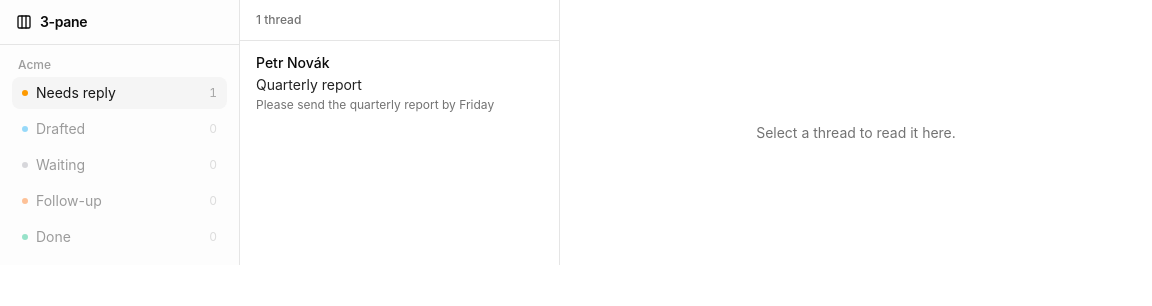
Test case: ThreePanePage (smoke) › lists states with counts, lists threads for the selected state, and reads a thread via the local body hop
Check: the button "Needs reply 1" is enabled, box [12,77,227,109]
// Click the thread → RIGHT reading pane shows the pinned 7b summary…
What coordinates should you click on to do the following:
click the text "Quarterly report"
I would click on:
 (309, 84)
Its box is [256,76,362,93].
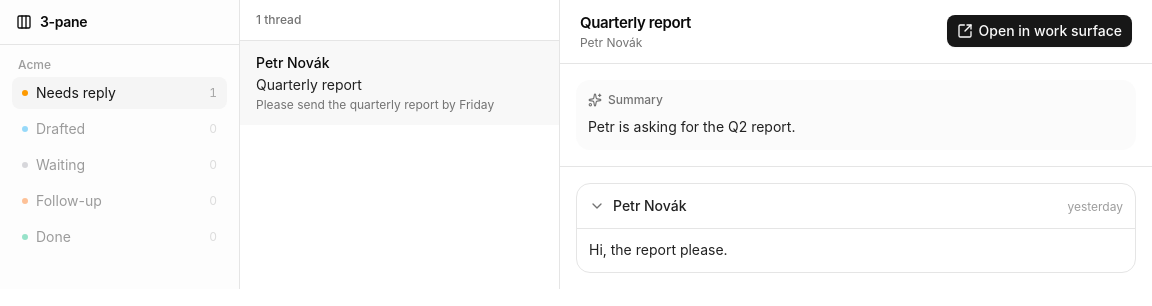
Check: the text "Petr is asking for the Q2 report." is shown, box [588,118,795,134]
Check: the text "Hi, the report please." is shown, box [589,241,728,258]
